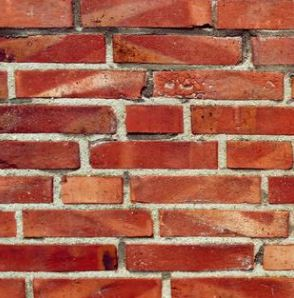brick: (129, 172, 264, 206), (157, 207, 292, 240), (151, 69, 285, 102), (13, 68, 144, 100), (125, 242, 256, 274), (86, 140, 220, 171), (21, 207, 155, 238), (111, 35, 245, 65), (80, 1, 212, 30), (1, 103, 117, 135), (188, 103, 294, 137), (1, 242, 120, 272), (1, 34, 107, 65), (31, 277, 165, 297), (170, 276, 294, 297), (1, 139, 80, 171), (224, 138, 294, 172), (1, 1, 77, 31), (216, 1, 294, 29), (59, 174, 126, 204), (124, 103, 186, 135), (1, 174, 54, 206), (250, 37, 294, 67)
